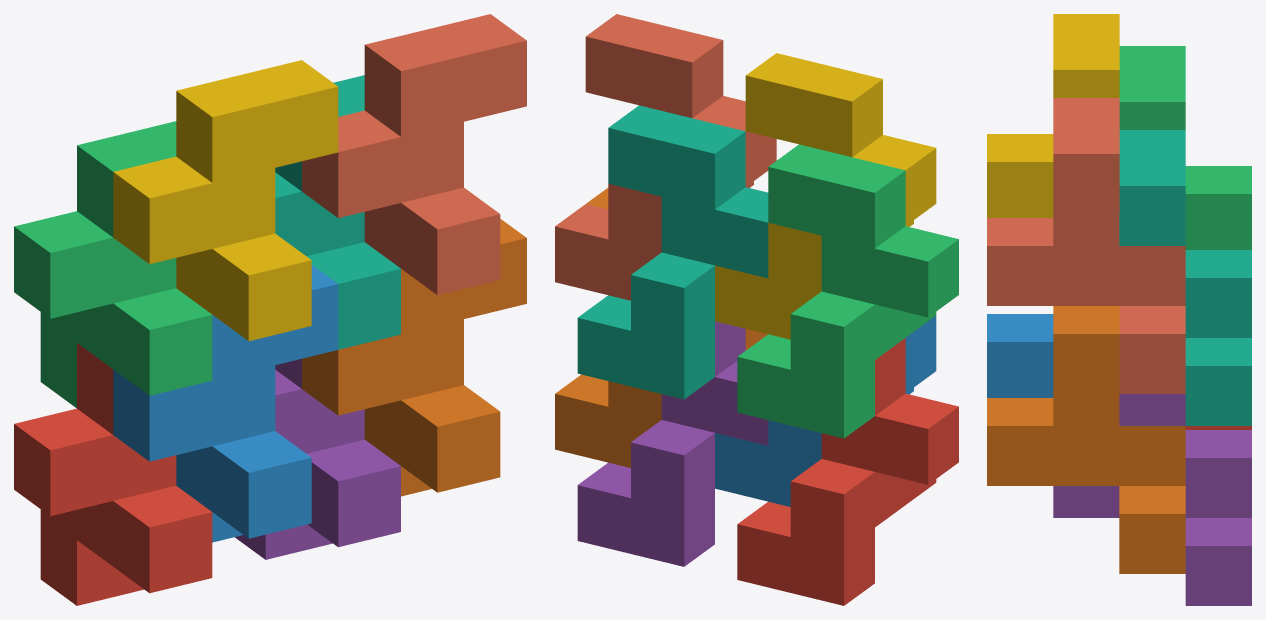
The model's file is tiling.obj.
The picture shows the model from 3 angles, left to right: view 1: azimuth 30°, elevation 25°; view 2: azimuth 150°, elevation 25°; view 3: azimuth 270°, elevation 25°; orthographic projection. The views are drawn at different scales.
Parts seen in each view (by area): view 1: copy_1_domain_4, copy_1_domain_8, copy_1_domain_3, copy_1_domain_1, copy_1_domain_2, copy_1_domain_6, copy_1_domain_5, copy_1_domain_7; view 2: copy_1_domain_3, copy_1_domain_7, copy_1_domain_1, copy_1_domain_8, copy_1_domain_4, copy_1_domain_5, copy_1_domain_2, copy_1_domain_6; view 3: copy_1_domain_8, copy_1_domain_6, copy_1_domain_7, copy_1_domain_5, copy_1_domain_3, copy_1_domain_4, copy_1_domain_2.
Part boxes in pixels (bbox=[...]): copy_1_domain_4: bbox=[113, 60, 338, 340]; copy_1_domain_8: bbox=[302, 14, 526, 295]; copy_1_domain_3: bbox=[14, 121, 212, 408]; copy_1_domain_1: bbox=[14, 343, 212, 605]; copy_1_domain_2: bbox=[113, 265, 338, 542]; copy_1_domain_6: bbox=[302, 219, 526, 496]; copy_1_domain_5: bbox=[235, 359, 400, 559]; copy_1_domain_7: bbox=[275, 75, 400, 349]; copy_1_domain_3: bbox=[737, 144, 958, 438]; copy_1_domain_7: bbox=[577, 105, 768, 399]; copy_1_domain_1: bbox=[737, 338, 958, 605]; copy_1_domain_8: bbox=[555, 14, 776, 300]; copy_1_domain_4: bbox=[715, 53, 936, 339]; copy_1_domain_5: bbox=[577, 321, 768, 566]; copy_1_domain_2: bbox=[715, 315, 936, 506]; copy_1_domain_6: bbox=[555, 188, 767, 467]; copy_1_domain_8: bbox=[987, 98, 1185, 393]; copy_1_domain_6: bbox=[987, 306, 1185, 573]; copy_1_domain_7: bbox=[1119, 130, 1251, 425]; copy_1_domain_5: bbox=[1053, 394, 1251, 605]; copy_1_domain_3: bbox=[1119, 46, 1251, 249]; copy_1_domain_4: bbox=[987, 14, 1119, 217]; copy_1_domain_2: bbox=[987, 314, 1053, 397].
Bounding box in the file's own units: 7 × 8 × 4.
